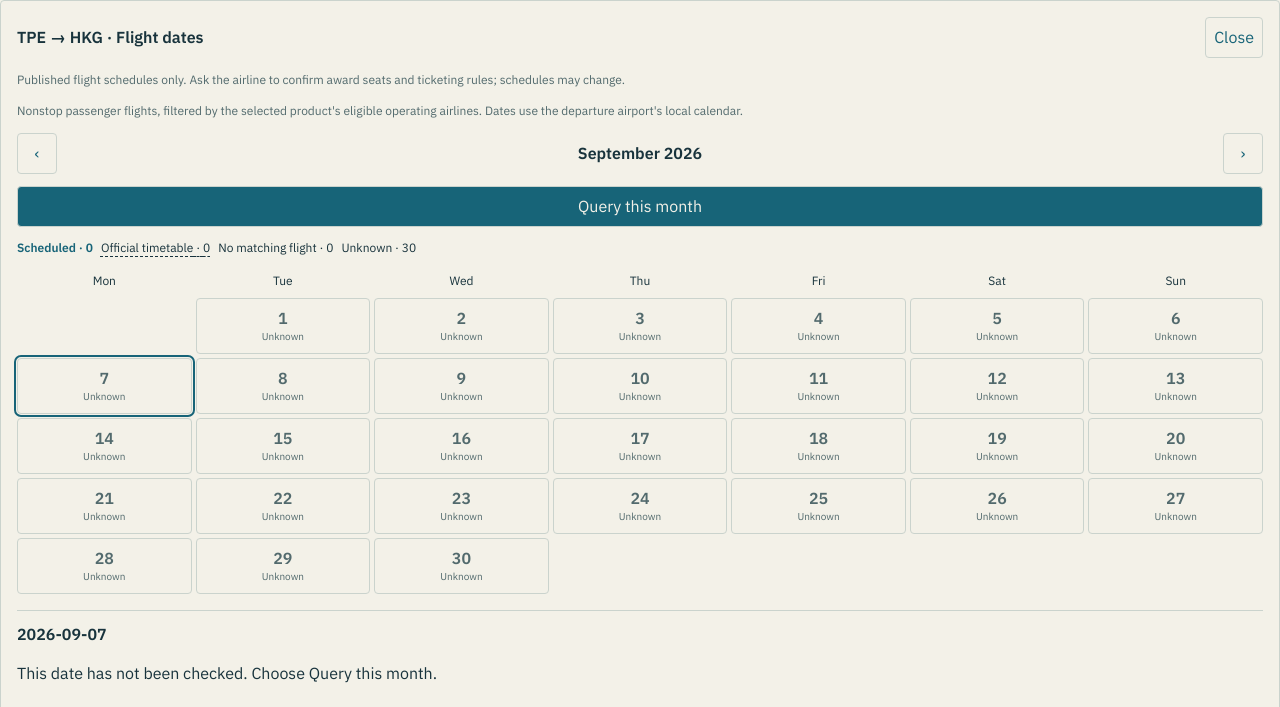
Test: errors do not paint the calendar as no flights
Click the button "Query this month". click: coordinates (640, 206)
box: [17,186,1263,227]
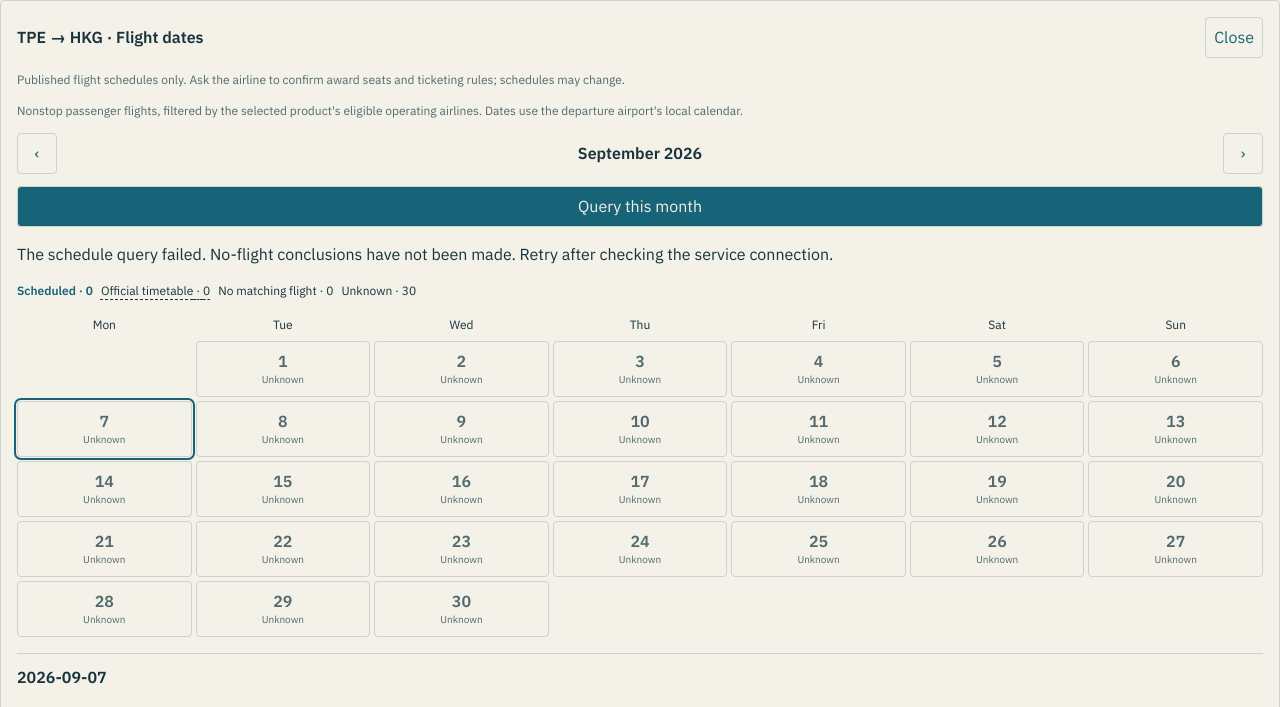
Check: the 1st message shows "query failed", box [17,244,833,264]
